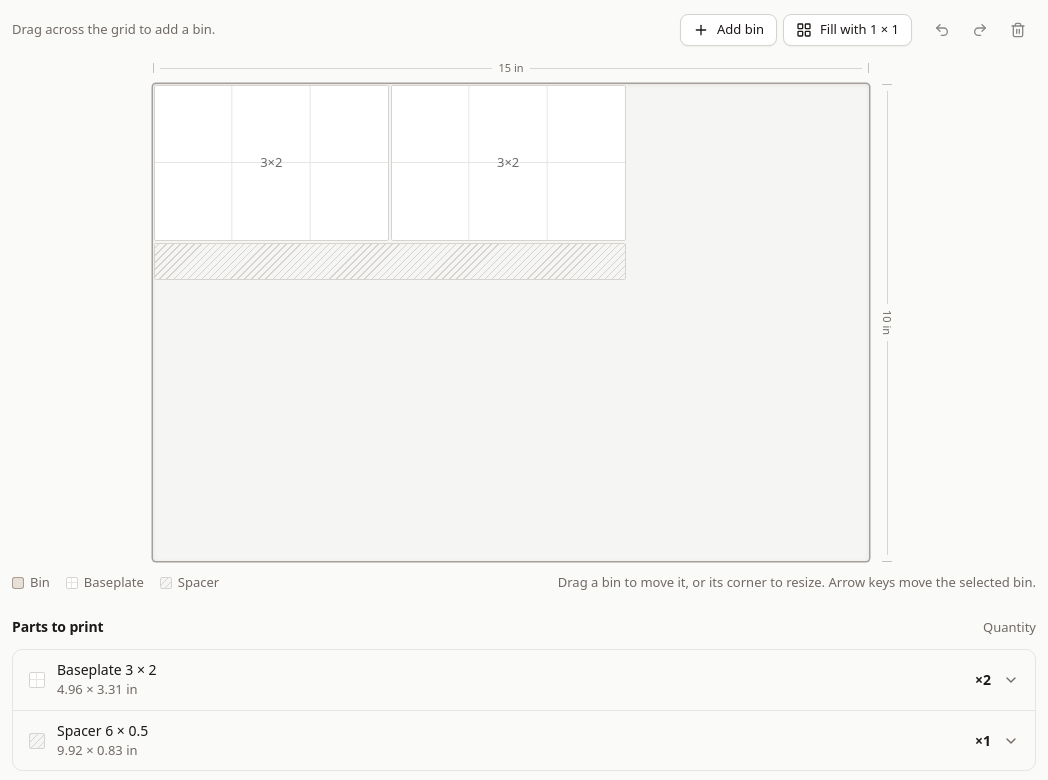
GridfinityVisualPreview parts list › clears the selection via the Clear selection button and returns focus to the row
Click the button named "Baseplate 3 × 2 — 2 in this drawer" at (89, 670), box 13,650 -> 1035,710
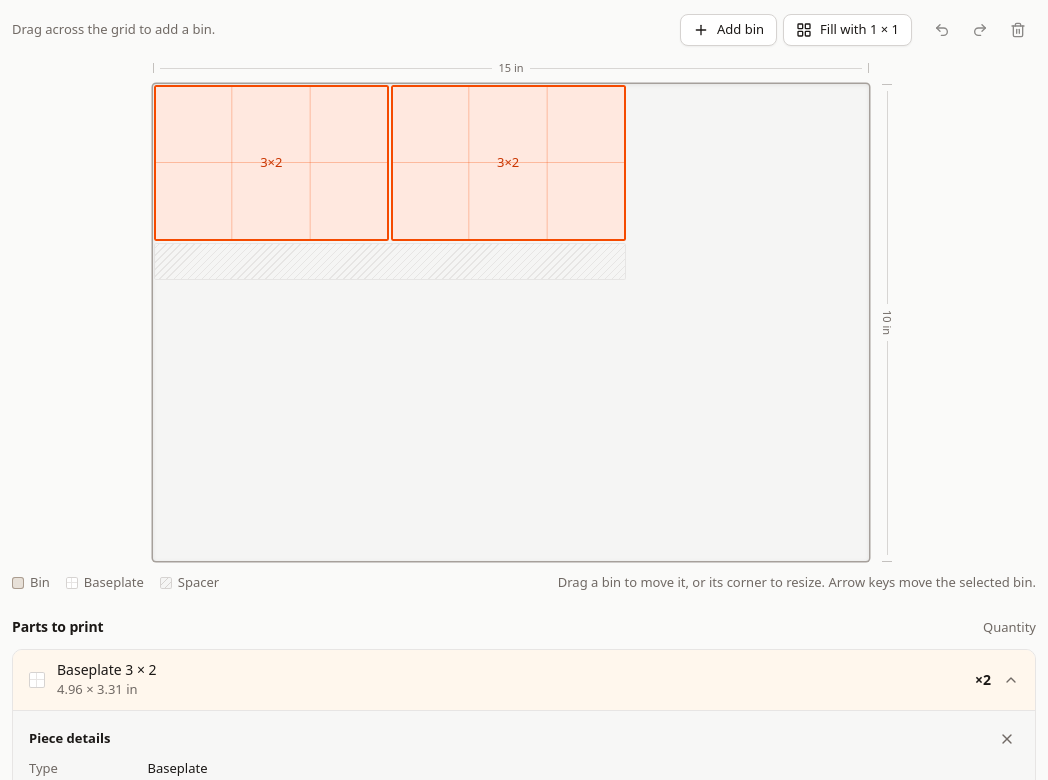
Click the button named "Clear selection" at (1007, 739), box 991,723 -> 1023,755
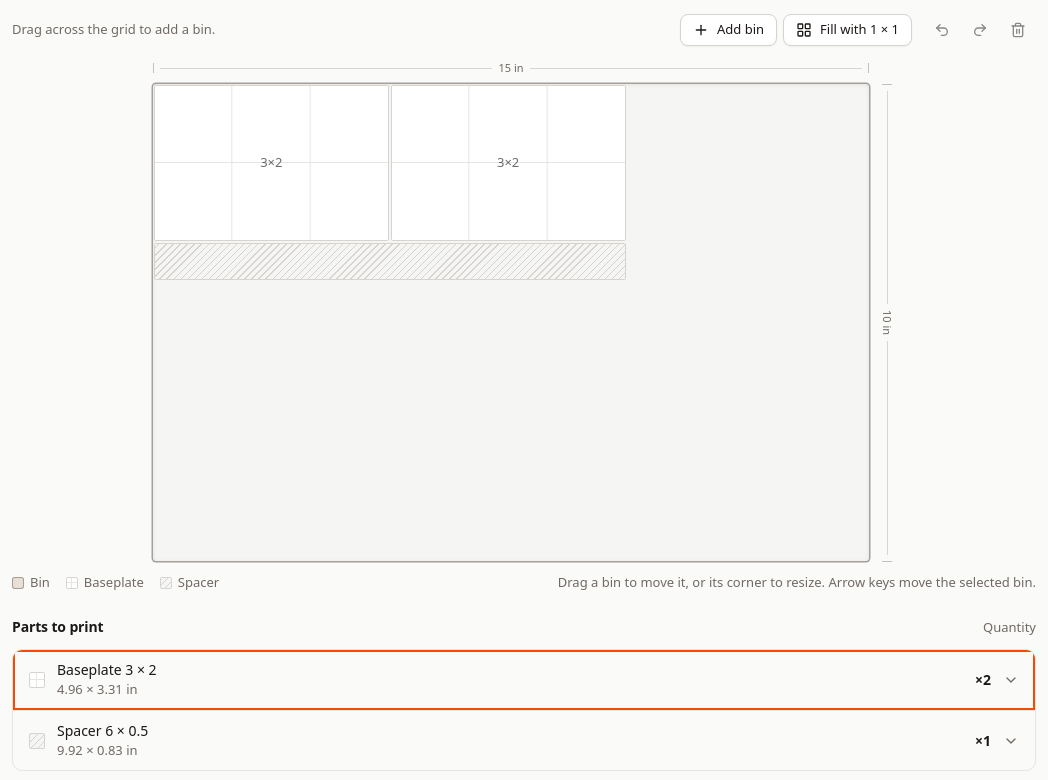
Now the heading "Piece details" is gone
